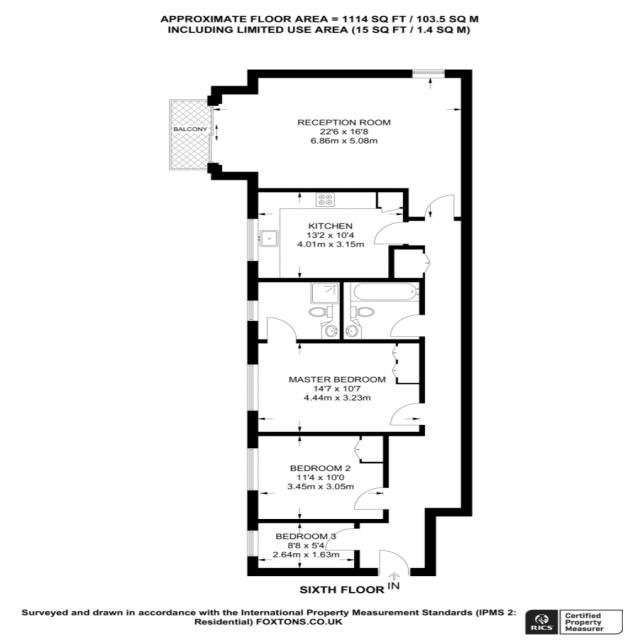DOOR: (376, 549, 412, 576), (423, 193, 456, 221), (353, 486, 389, 511), (265, 316, 298, 343), (372, 221, 409, 245), (324, 527, 360, 551), (389, 402, 425, 426), (389, 314, 425, 338)
ROOM: (207, 69, 473, 221), (247, 317, 425, 436), (247, 188, 409, 283), (247, 432, 389, 523), (247, 519, 361, 576)
WINDOW: (246, 447, 260, 492), (247, 364, 259, 412), (246, 218, 259, 262), (246, 530, 259, 557), (411, 69, 446, 79), (246, 300, 259, 322)
